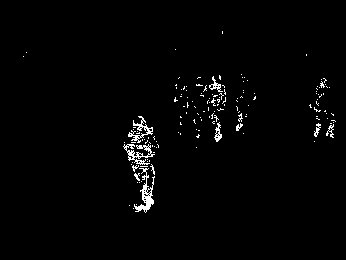person: (124, 115, 158, 215), (206, 74, 226, 143)
